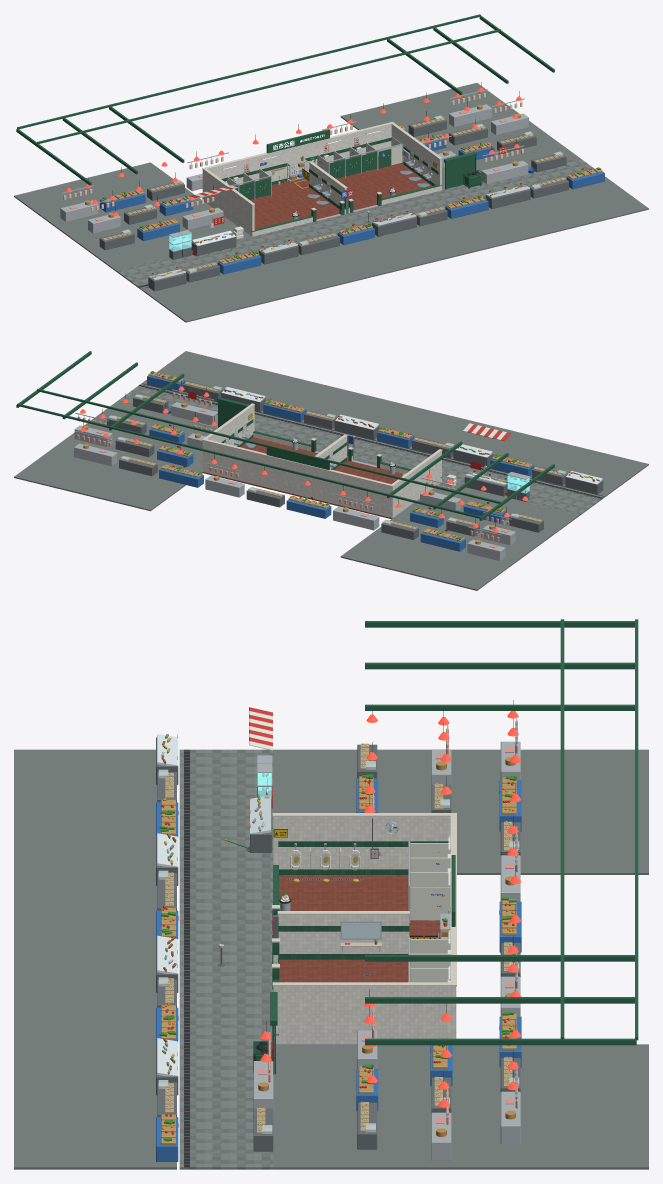
Rendered from level_market.glb.
The picture shows the model from 3 angles, top to bottom: view 1: azimuth 30°, elevation 25°; view 2: azimuth 150°, elevation 25°; view 3: azimuth 270°, elevation 25°; orthographic projection. The views are drawn at different scales.
Parts seen in each view (by area): view 1: neighbours, opposite, walls, street, floor, stall_partitions, decor, signage; view 2: neighbours, opposite, walls, street, floor, signage; view 3: neighbours, opposite, street, walls, floor, stall_partitions, decor.
Boxes of the visible parts, left/top/right/bottom form: neighbours: left=14, top=14, right=578, bottom=270; opposite: left=141, top=167, right=648, bottom=322; walls: left=202, top=122, right=442, bottom=236; street: left=115, top=157, right=594, bottom=289; floor: left=250, top=159, right=432, bottom=229; stall_partitions: left=227, top=136, right=403, bottom=200; decor: left=222, top=129, right=482, bottom=222; signage: left=266, top=129, right=353, bottom=213; neighbours: left=14, top=351, right=578, bottom=590; opposite: left=141, top=351, right=648, bottom=497; walls: left=202, top=403, right=442, bottom=518; street: left=116, top=384, right=604, bottom=516; floor: left=202, top=437, right=402, bottom=518; signage: left=266, top=434, right=353, bottom=469; neighbours: left=224, top=619, right=648, bottom=1169; opposite: left=14, top=734, right=178, bottom=1169; street: left=179, top=749, right=273, bottom=1169; walls: left=272, top=813, right=456, bottom=1044; floor: left=279, top=875, right=440, bottom=982; stall_partitions: left=408, top=841, right=450, bottom=982; decor: left=218, top=821, right=450, bottom=1072.
Bounding box in the file's own units: 40.16 × 5.92 × 25.7.
Materials: 95 (4 with a texture image).
